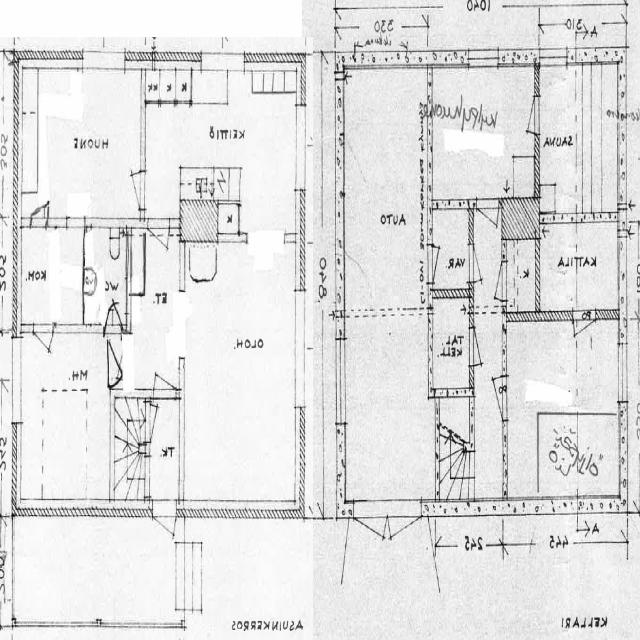door: (353, 499, 389, 587), (388, 499, 424, 587), (103, 334, 132, 386), (154, 500, 177, 561), (573, 310, 597, 366), (480, 373, 508, 419), (469, 322, 496, 366), (119, 166, 146, 210), (154, 345, 176, 399), (149, 219, 171, 270), (477, 200, 499, 250), (34, 323, 54, 373), (483, 260, 507, 300), (470, 242, 494, 282), (428, 243, 452, 282), (29, 180, 48, 228), (517, 94, 540, 132), (106, 286, 125, 332), (150, 404, 172, 438)
